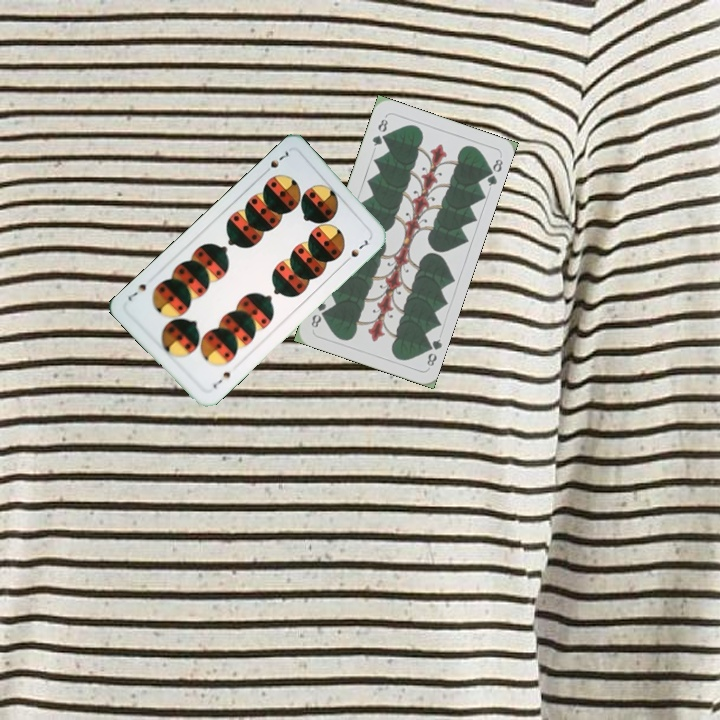G8: (420, 335, 444, 369), (368, 115, 390, 149)
S7: (259, 146, 291, 177), (209, 367, 233, 391)
